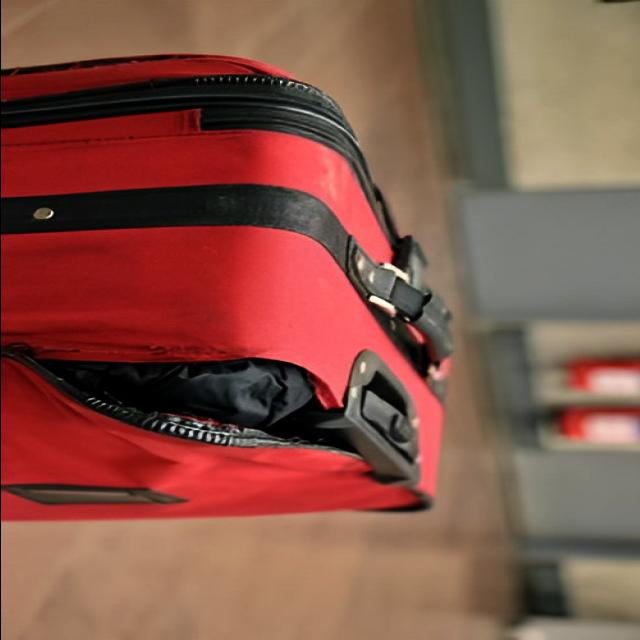Damage-bag: (5, 341, 353, 452)
